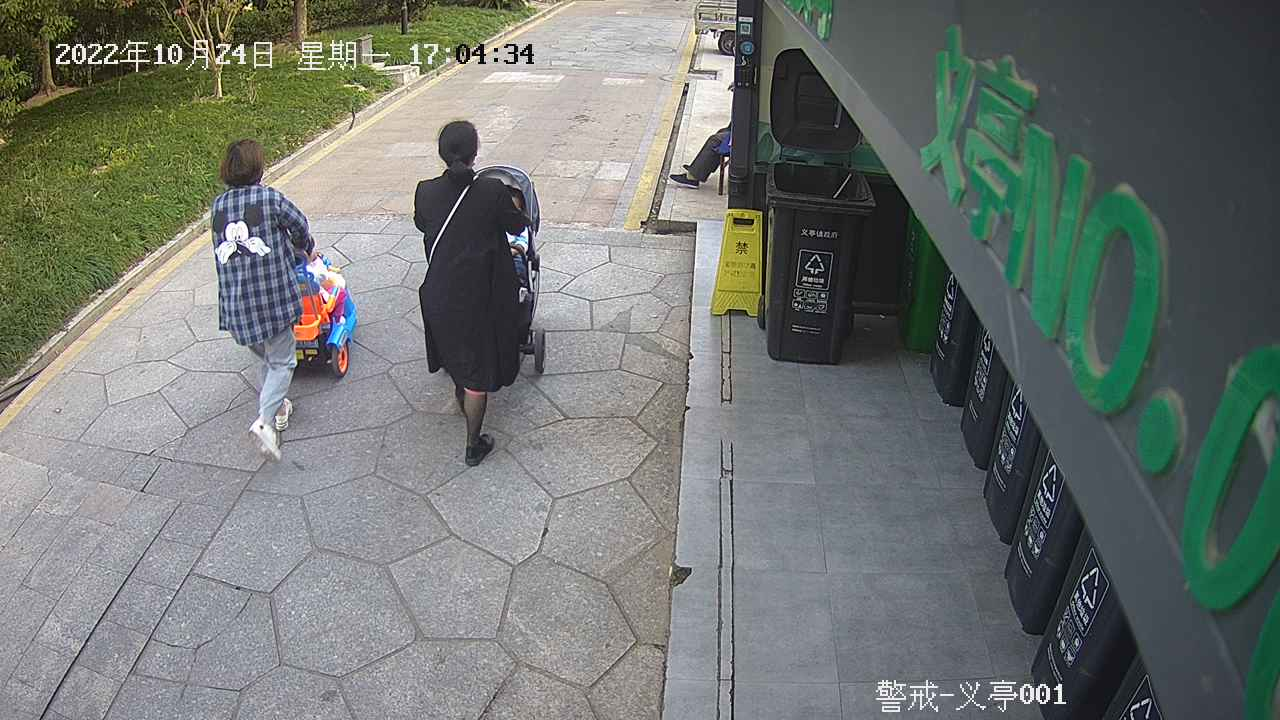person: (404, 115, 537, 475), (202, 135, 324, 473)
